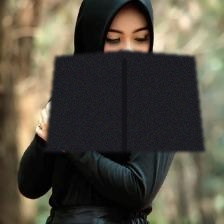Cadar_Niqab: (45, 0, 204, 151)
